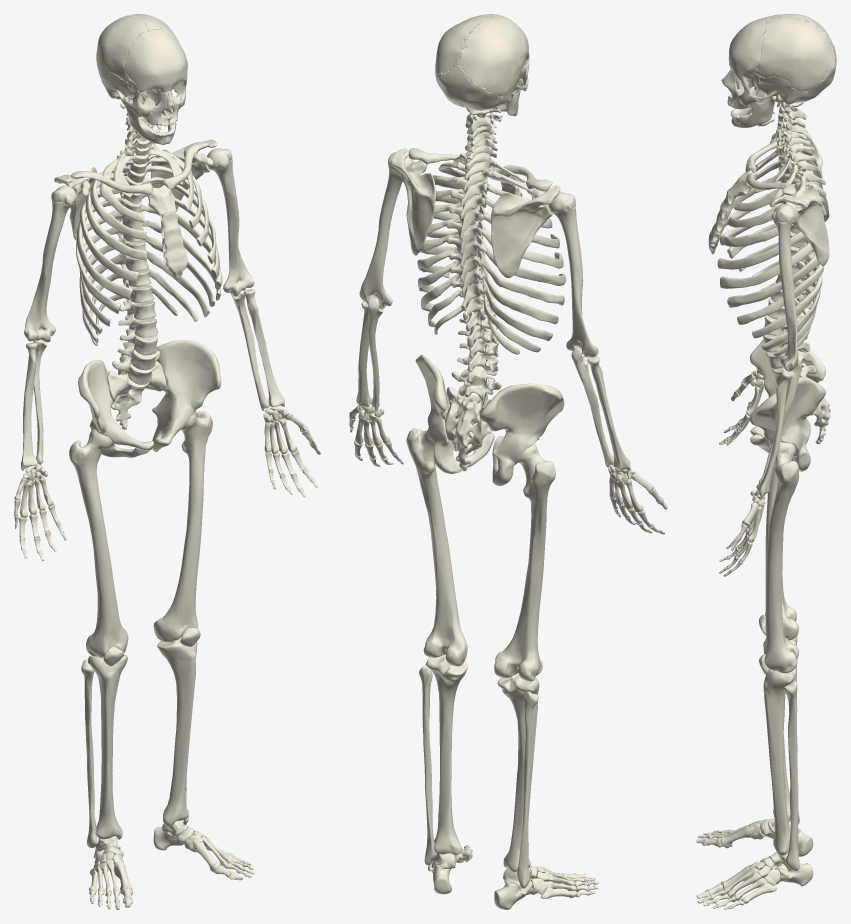
Rendered from skeleton.glb.
The picture shows the model from 3 angles, left to right: view 1: azimuth 30°, elevation 25°; view 2: azimuth 150°, elevation 25°; view 3: azimuth 270°, elevation 25°; orthographic projection. The views are drawn at different scales.
Parts seen in each view (by area): view 1: right-femur, left-femur, left-hip-bone, left-tibia, frontal-bone, right-tibia, right-hip-bone, right-humerus, left-humerus, right-parietal-bone, sternum, sacrum (+16 smaller); view 2: right-femur, left-femur, right-hip-bone, right-parietal-bone, right-scapula, left-tibia, right-tibia, left-hip-bone, right-humerus, left-scapula, sacrum, left-humerus (+14 smaller); view 3: left-femur, left-parietal-bone, left-tibia, left-hip-bone, left-humerus, left-scapula, left-fibula, frontal-bone, right-hip-bone, right-femur, left-radius, sternum (+24 smaller).
Part boxes in pixels (bbox=[...]): right-femur: bbox=[69, 428, 128, 657]; left-femur: bbox=[153, 411, 212, 642]; left-hip-bone: bbox=[152, 340, 221, 451]; left-tibia: bbox=[157, 636, 197, 826]; frontal-bone: bbox=[125, 28, 187, 93]; right-tibia: bbox=[88, 654, 127, 839]; right-hip-bone: bbox=[78, 360, 153, 457]; right-humerus: bbox=[24, 185, 76, 342]; left-humerus: bbox=[207, 148, 254, 296]; right-parietal-bone: bbox=[96, 15, 149, 81]; sternum: bbox=[148, 185, 188, 279]; sacrum: bbox=[107, 361, 166, 429]; right-femur: bbox=[494, 444, 555, 681]; left-femur: bbox=[406, 428, 467, 666]; right-hip-bone: bbox=[479, 383, 564, 485]; right-parietal-bone: bbox=[458, 16, 526, 96]; right-scapula: bbox=[491, 185, 560, 278]; left-tibia: bbox=[425, 654, 467, 854]; right-tibia: bbox=[497, 673, 539, 871]; left-hip-bone: bbox=[415, 354, 494, 473]; right-humerus: bbox=[549, 192, 598, 357]; left-scapula: bbox=[391, 148, 435, 255]; sacrum: bbox=[445, 387, 491, 471]; left-humerus: bbox=[359, 152, 413, 309]; left-femur: bbox=[764, 442, 799, 673]; left-parietal-bone: bbox=[755, 17, 834, 91]; left-tibia: bbox=[763, 668, 795, 855]; left-hip-bone: bbox=[750, 377, 825, 471]; left-humerus: bbox=[771, 204, 798, 371]; left-scapula: bbox=[770, 184, 829, 266]; left-fibula: bbox=[783, 680, 799, 870]; frontal-bone: bbox=[728, 17, 767, 80]; right-hip-bone: bbox=[750, 330, 825, 444]; right-femur: bbox=[765, 460, 798, 640]; left-radius: bbox=[756, 371, 792, 497]; sternum: bbox=[708, 170, 752, 254].
Size of the model in its own units: 0.6478 by 1.71 by 0.254.
